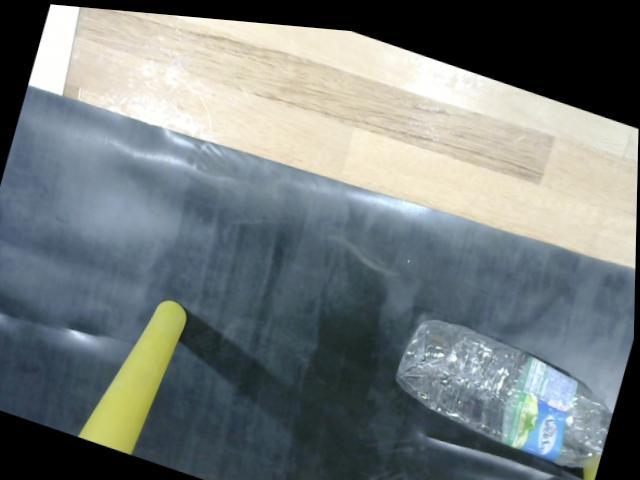bottle: (392, 293, 614, 480)
